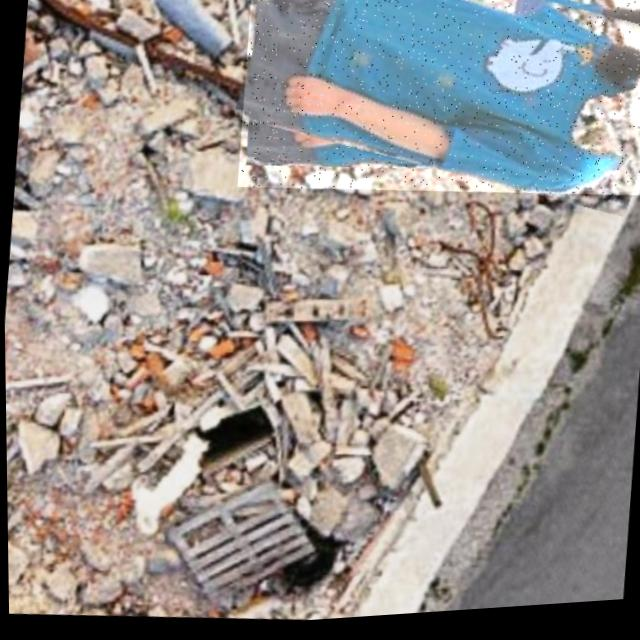Person in Rubble: (233, 0, 640, 226)
